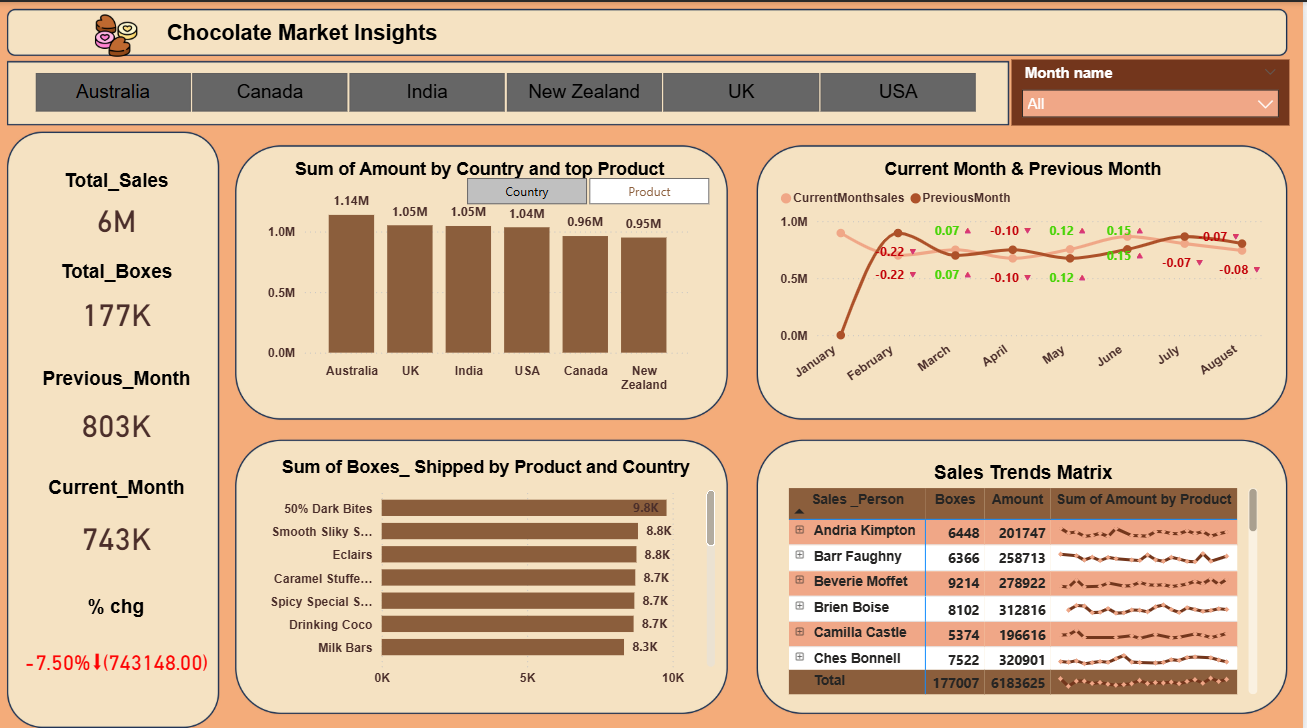

The dashboard page shown, as its layout file describes it:
{"tool":"powerbi","page":{"name":"Chocolate Market Overview","canvas":[1280,720],"ordinal":0},"visuals":[{"type":"lineChart","title":"Current Month & Previous Month","fields":{"Y":["Measure.CurrentMonthsales","Measure.PreviousMonth"],"Category":["Dim_Date.Date.Variation.Date Hierarchy.Month"]},"box":[762,153.4,485.9,238],"z":0},{"type":"card","title":"Current_Month","fields":{"Values":["Measure.CurrentMonthsales"]},"box":[30.7,466.3,169.3,96.9],"z":1000},{"type":"card","title":"Previous_Month","fields":{"Values":["Measure.PreviousMonth"]},"box":[30.7,359.5,169.3,89.6],"z":2000},{"type":"card","title":"Total_Boxes","fields":{"Values":["Measure.TotalBoxes"]},"box":[30.7,254,169.3,82.2],"z":3000},{"type":"card","title":"Total_Sales","fields":{"Values":["Measure.Totalsales"]},"box":[30.7,164.4,169.3,76.1],"z":4000},{"type":"clusteredBarChart","title":"Sum of Boxes_ Shipped by Product and Country","fields":{"Category":["Chocolate Sales.Product"],"Y":["Chocolate Sales.Boxes_ Shipped"]},"box":[247.9,446.6,460.1,233.1],"z":5000},{"type":"card","title":"% chg","fields":{"Values":["Measure.% chg mom"]},"box":[19.6,582.8,190.2,111.7],"z":6000},{"type":"columnChart","title":"Sum of Amount by Country and top Product","fields":{"Category":["Chocolate Sales.Country"],"Y":["Chocolate Sales.Amount"]},"box":[258.9,153.4,425.8,238],"z":7000},{"type":"pivotTable","title":"Sales Trends Matrix","fields":{"Rows":["Chocolate Sales.Sales _Person","Chocolate Sales.Product"],"Values":["Chocolate Sales.Boxes_ Shipped","Chocolate Sales.Amount","SparklineData(Sum(Chocolate Sales.Amount)_[Chocolate Sales.Product])"]},"box":[770.6,451.5,469.9,233.1],"z":8000},{"type":"slicer","fields":{"Values":["Chocolate Sales.Country"]},"box":[9.8,62.6,973,51.5],"z":9000},{"type":"slicer","fields":{"Values":["Dim_Date.Month name"]},"box":[993.8,56.2,272.5,65],"z":10000},{"type":"slicer","fields":{"Values":["Country & Product.Country & Product"]},"box":[433.1,165.6,288.3,36.8],"z":11000},{"type":"textbox","box":[135,13.5,325.2,42.9],"z":12000},{"type":"image","box":[63.8,7.4,101.8,51.5],"z":13000}]}

Visuals, with their boxes in screenshot pixels (x1, y1, x2, y2), scaled from the page's 1280x720 canvas onto the 1307x728 screenshot:
"Current Month & Previous Month" lineChart: [778,155,1274,396]
"Current_Month" card: [31,471,204,569]
"Previous_Month" card: [31,363,204,454]
"Total_Boxes" card: [31,257,204,340]
"Total_Sales" card: [31,166,204,243]
"Sum of Boxes_ Shipped by Product and Country" clusteredBarChart: [253,452,723,687]
"% chg" card: [20,589,214,702]
"Sum of Amount by Country and top Product" columnChart: [264,155,699,396]
"Sales Trends Matrix" pivotTable: [787,457,1267,692]
slicer - Chocolate Sales.Country: [10,63,1004,115]
slicer - Dim_Date.Month name: [1015,57,1293,123]
slicer - Country & Product.Country & Product: [442,167,737,205]
textbox: [138,14,470,57]
image: [65,7,169,60]
